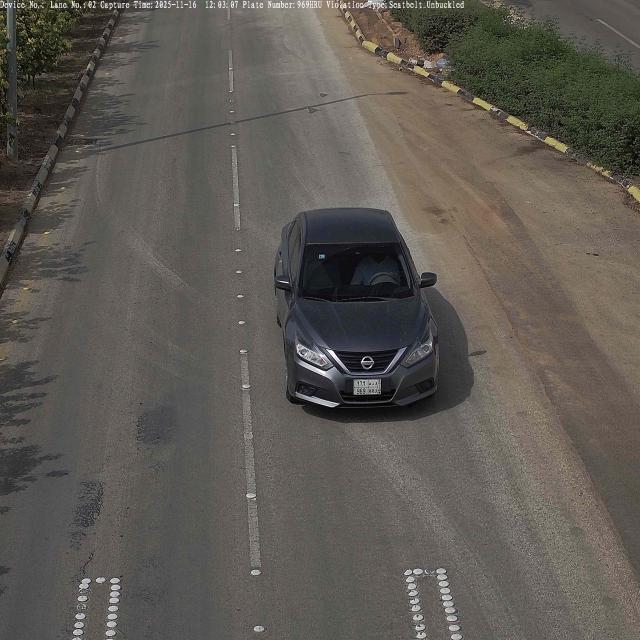person_without_seatbelt: (352, 246, 399, 288)
